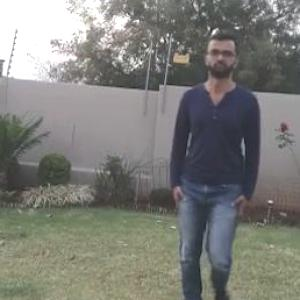follow: (170, 41, 256, 299)
